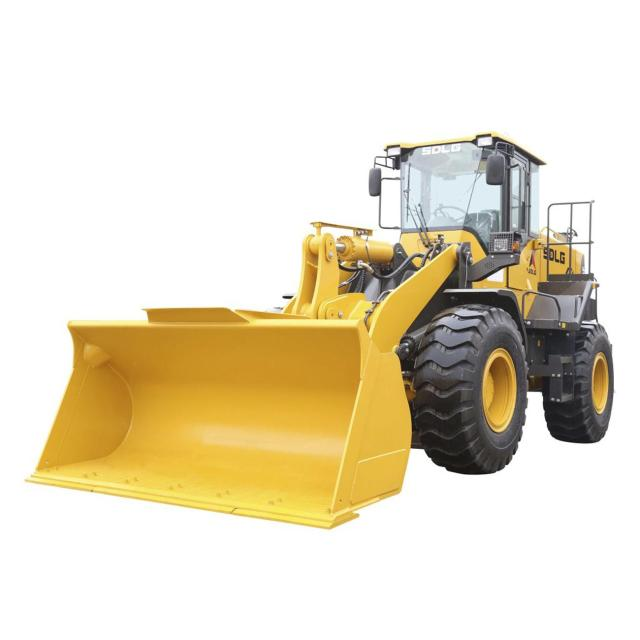pala cargadora: (17, 120, 620, 534)
